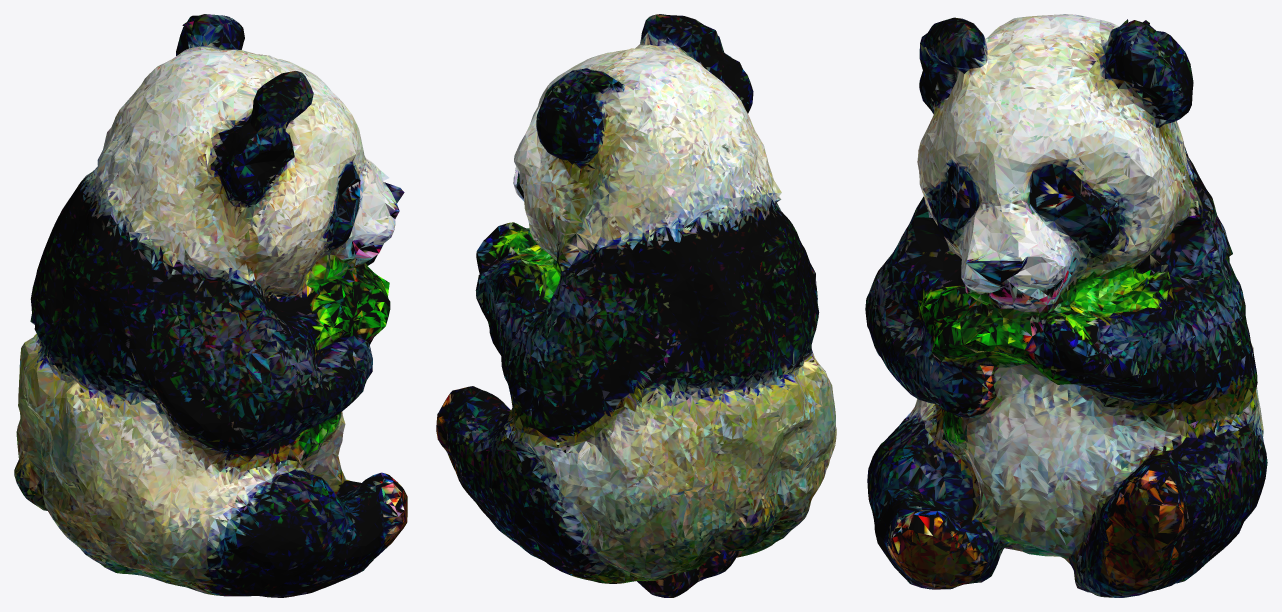
Rendered from panda-normal.glb.
3 renders of one model, left to right at view 1: azimuth 30°, elevation 25°; view 2: azimuth 150°, elevation 25°; view 3: azimuth 270°, elevation 25°, orthographic. The views are drawn at different scales.
Parts seen in each view (by area): view 1: extracted_mesh; view 2: extracted_mesh; view 3: extracted_mesh.
Part boxes in pixels (x1=…): extracted_mesh: x1=14, y1=14, x2=407, y2=597; extracted_mesh: x1=436, y1=14, x2=836, y2=597; extracted_mesh: x1=865, y1=14, x2=1267, y2=597.
Size of the model in its own units: 0.7113 by 1.05 by 0.6677.
1 material, 1 textured.
